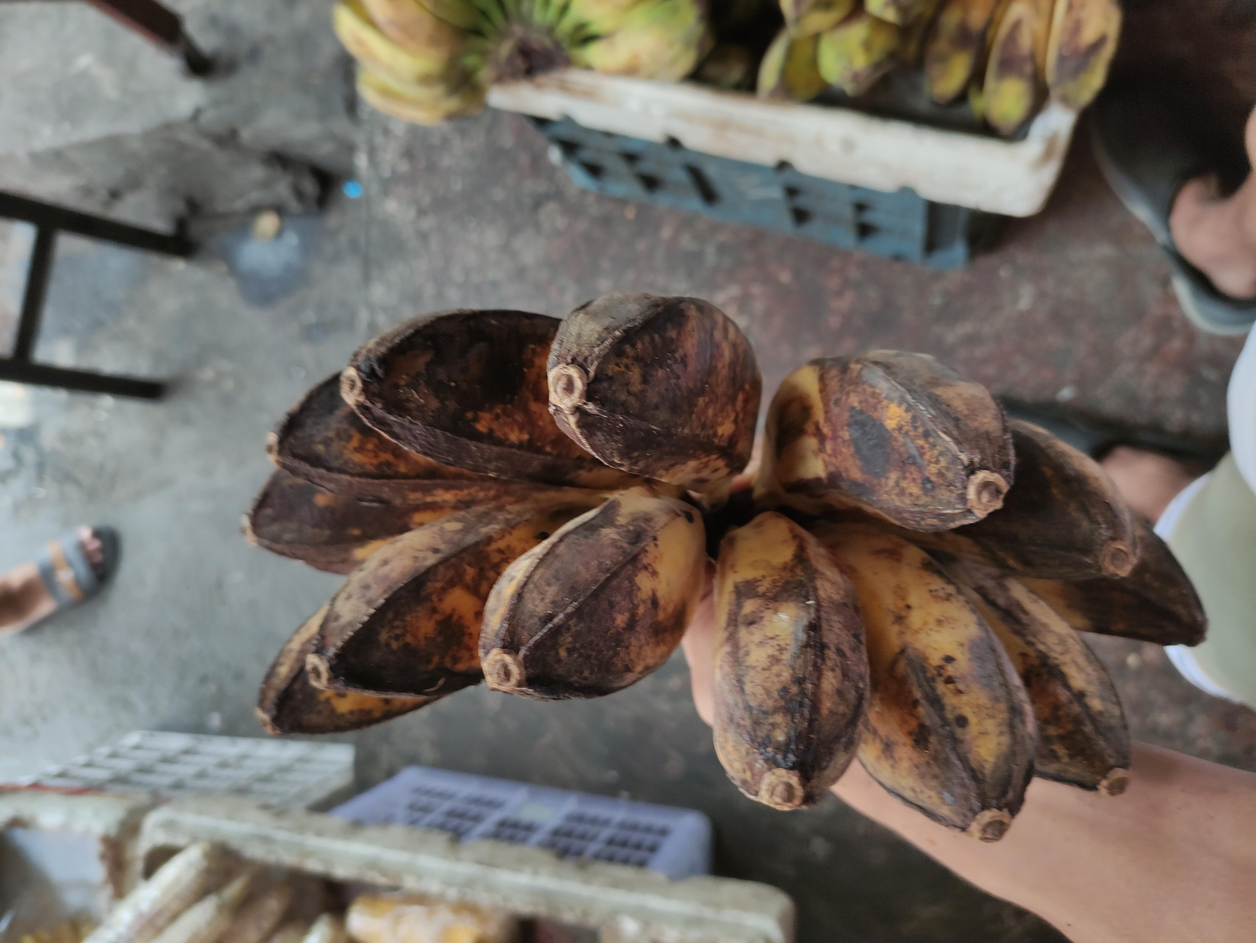overripe: (245, 294, 1205, 841)
